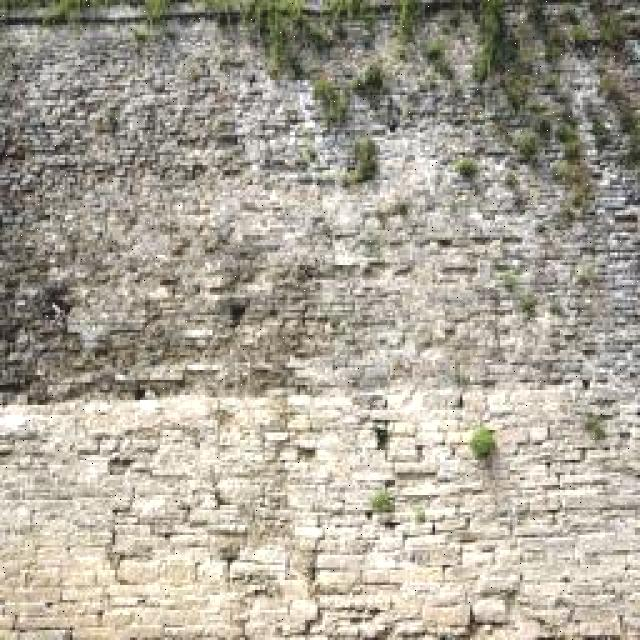crack: (1, 1, 638, 638), (4, 502, 98, 574), (111, 528, 175, 561), (594, 175, 637, 219), (187, 507, 239, 532), (16, 612, 70, 631), (11, 602, 53, 623), (73, 623, 123, 640), (17, 626, 73, 640), (607, 230, 638, 253)
dampness: (0, 23, 203, 363), (5, 217, 319, 399), (4, 484, 246, 638)
vegetation: (76, 23, 249, 188), (268, 166, 423, 275), (202, 195, 317, 286), (237, 0, 328, 73), (7, 277, 78, 345), (591, 66, 640, 142), (469, 2, 514, 81), (311, 0, 382, 46), (547, 148, 592, 215), (492, 263, 541, 318), (499, 73, 542, 120), (593, 5, 633, 51), (309, 75, 345, 120), (551, 123, 585, 168), (350, 135, 381, 184), (396, 1, 426, 47), (510, 127, 544, 161), (212, 530, 247, 561), (571, 258, 603, 290), (138, 0, 171, 31), (359, 59, 390, 90), (424, 37, 450, 67), (338, 165, 367, 189), (128, 22, 155, 46), (452, 156, 479, 178)
